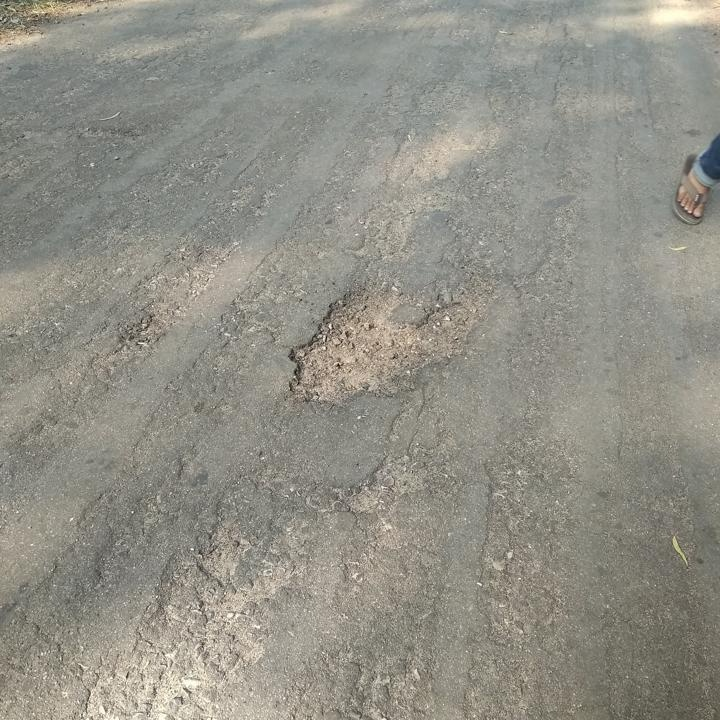pothole: (280, 279, 491, 411)
